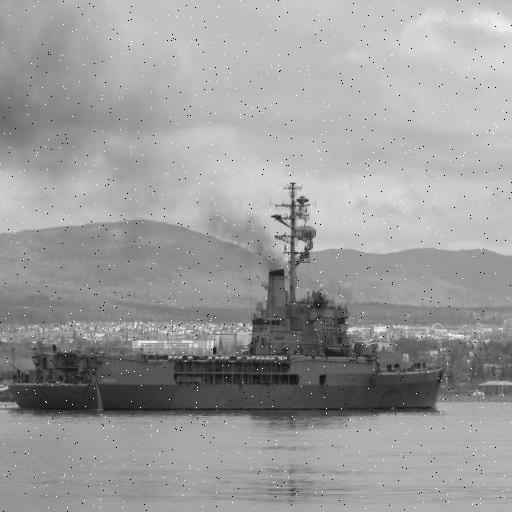Portanaves: (3, 176, 452, 417)
